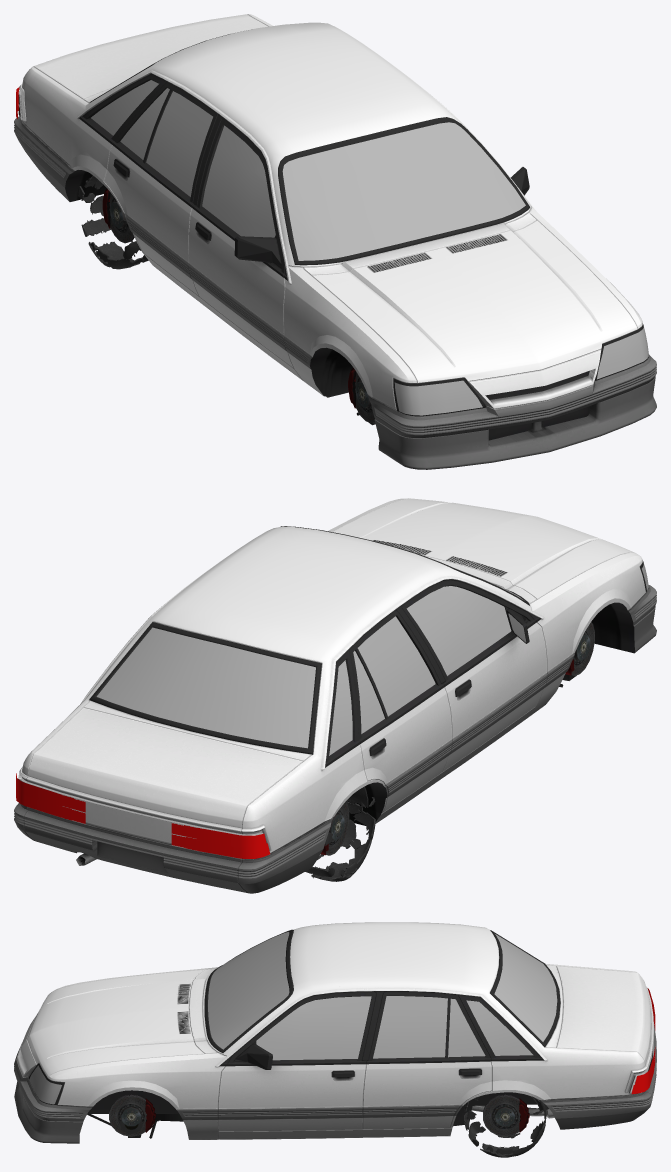
File: 27_HoldenVK.fbx
3 views of the same model, one above another, from view 1: azimuth 30°, elevation 25°; view 2: azimuth 150°, elevation 25°; view 3: azimuth 270°, elevation 25° (orthographic). The views are drawn at different scales.
Parts seen in each view (by area): view 1: Body_Duco, Body_Glass, Kit_00_Duco, Body_Plastic, Body_Matte, Rotor; view 2: Body_Duco, Body_Glass, Kit_00_Duco, Body_Plastic, Body_Matte, BrakeLights, Rotor (×2); view 3: Body_Duco, Body_Glass, Kit_00_Duco, Body_Matte, Body_Plastic, Rotor (×2), BrakeLights.
Boxes of the visible parts, box(x1,y1,x2,y2) form: Body_Duco: box(18, 14, 642, 410); Body_Glass: box(91, 80, 648, 415); Kit_00_Duco: box(311, 220, 637, 383); Body_Plastic: box(14, 116, 656, 469); Body_Matte: box(65, 34, 646, 440); Rotor: box(109, 192, 134, 243); Body_Duco: box(18, 498, 645, 859); Body_Glass: box(96, 563, 648, 755); Kit_00_Duco: box(333, 498, 634, 599); Body_Plastic: box(14, 585, 656, 893); Body_Matte: box(76, 526, 648, 893); BrakeLights: box(16, 773, 270, 858); Rotor (×2): box(326, 622, 594, 855); Body_Duco: box(16, 922, 653, 1139); Body_Glass: box(29, 932, 557, 1104); Kit_00_Duco: box(27, 970, 204, 1077); Body_Matte: box(29, 929, 560, 1141); Body_Plastic: box(14, 1025, 656, 1143); Rotor (×2): box(109, 1094, 520, 1136); BrakeLights: box(631, 988, 655, 1094).
Size of what is drawn, in the model's own units: 1.85 by 1.31 by 4.63.
